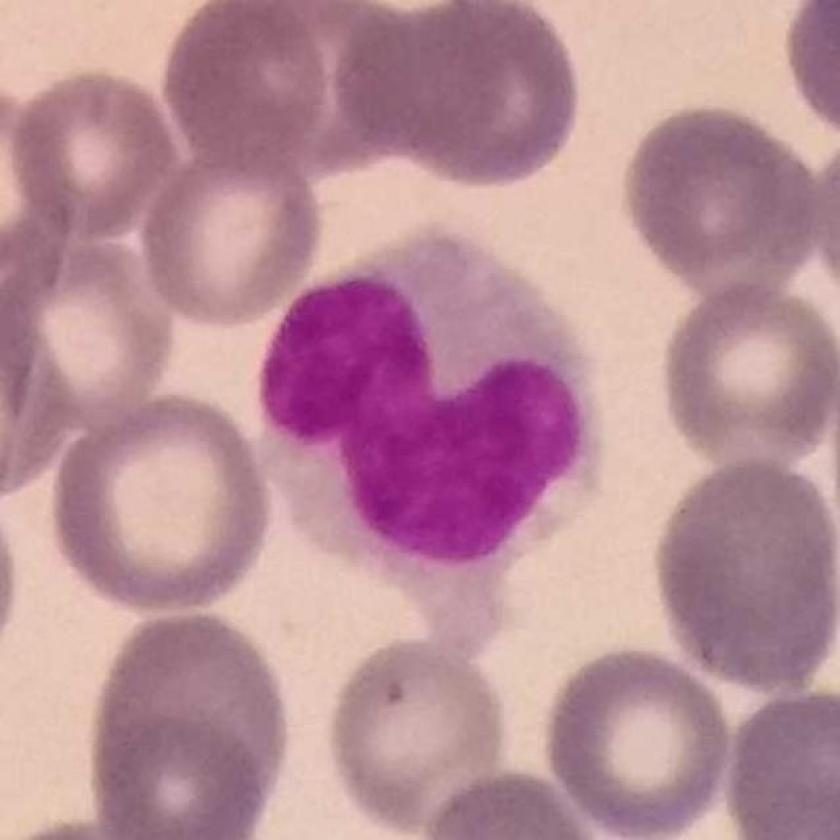monocyte: (249, 222, 610, 665)
